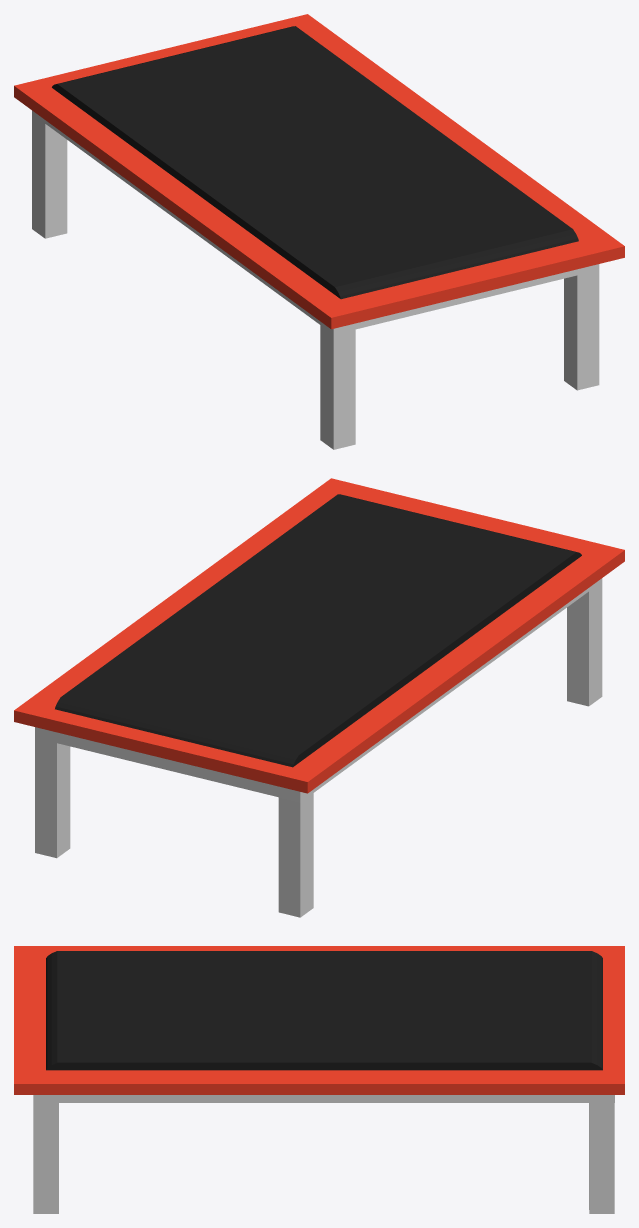
Rendered from Table.fbx.
3 views of the same model, one above another, from view 1: azimuth 30°, elevation 25°; view 2: azimuth 150°, elevation 25°; view 3: azimuth 270°, elevation 25° (orthographic). The views are drawn at different scales.
Visible parts, largest first — view 1: Cube.003, Cube.002, Cube.004, Cube; view 2: Cube.003, Cube.002, Cube.004, Cube; view 3: Cube.003, Cube.002, Cube.004, Cube.
Boxes of the visible parts, <box> form: Cube.003: <box>52,26,578,299</box>; Cube.002: <box>14,14,624,329</box>; Cube.004: <box>32,114,599,449</box>; Cube: <box>32,110,599,334</box>; Cube.003: <box>55,494,581,767</box>; Cube.002: <box>14,478,624,793</box>; Cube.004: <box>35,582,602,917</box>; Cube: <box>35,578,602,802</box>; Cube.003: <box>46,951,602,1070</box>; Cube.002: <box>14,946,624,1094</box>; Cube.004: <box>33,1103,614,1213</box>; Cube: <box>33,1095,614,1102</box>.
Size of the model in its own units: 221 by 108 by 414.
